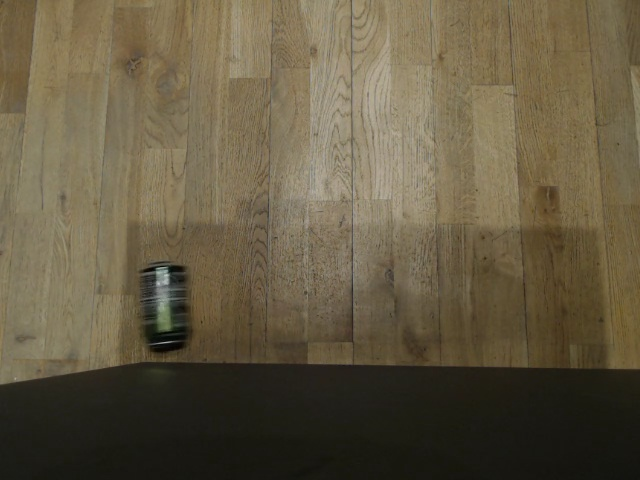beer: (135, 260, 194, 350)
